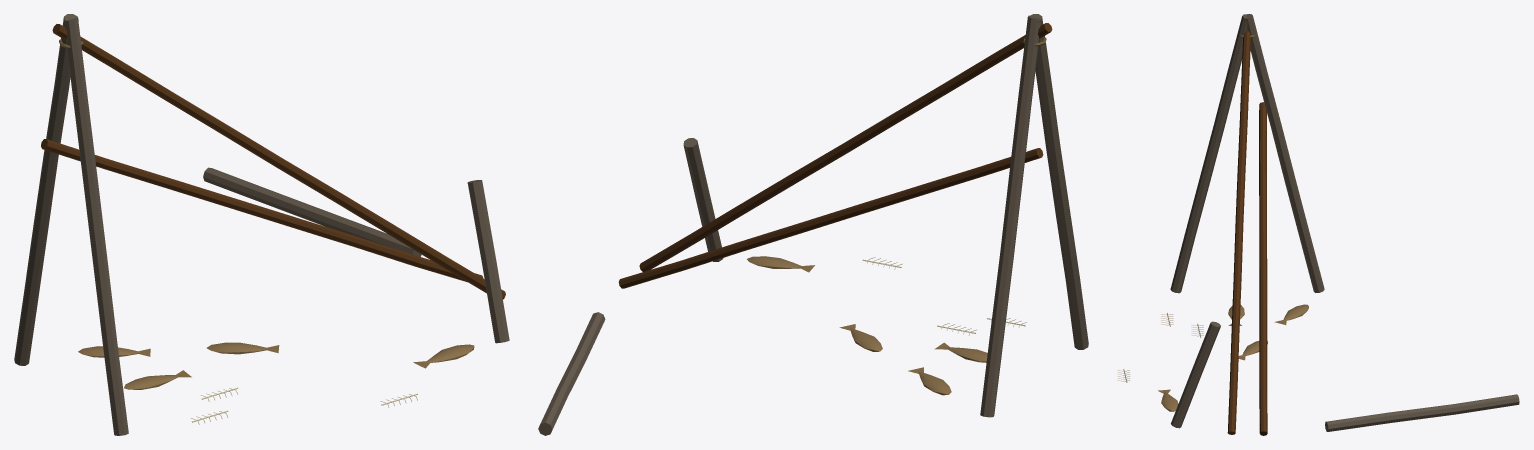
The model's file is fischgestell_kaputt.glb.
The picture shows the model from 3 angles, left to right: view 1: azimuth 30°, elevation 25°; view 2: azimuth 150°, elevation 25°; view 3: azimuth 270°, elevation 25°; orthographic projection. The views are drawn at different scales.
Parts seen in each view (by area): view 1: fischgestell_kaputt; view 2: fischgestell_kaputt; view 3: fischgestell_kaputt.
Part boxes in pixels (x1,y1,x2,y2): fischgestell_kaputt: (14,14,509,435); fischgestell_kaputt: (538,14,1088,435); fischgestell_kaputt: (1117,14,1519,435).
Bounding box in the file's own units: 2.31 × 1.92 × 2.53.
